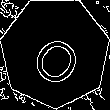O_NE: (23, 19, 87, 85)
